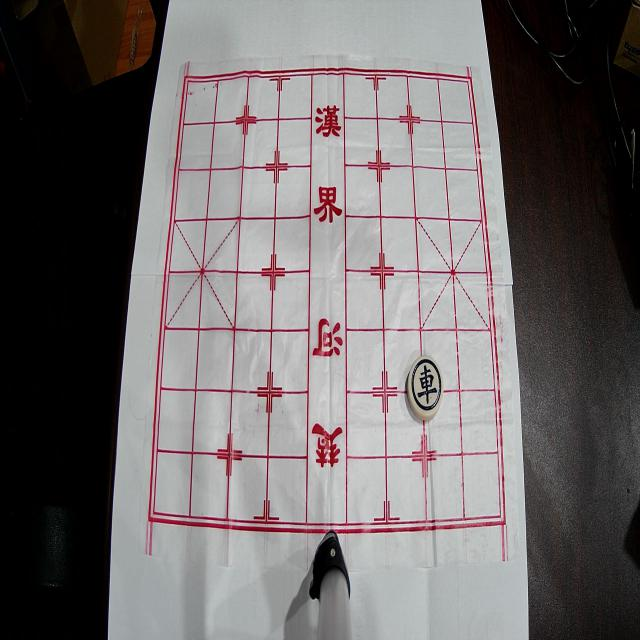black-chariot: (407, 355, 444, 420)
